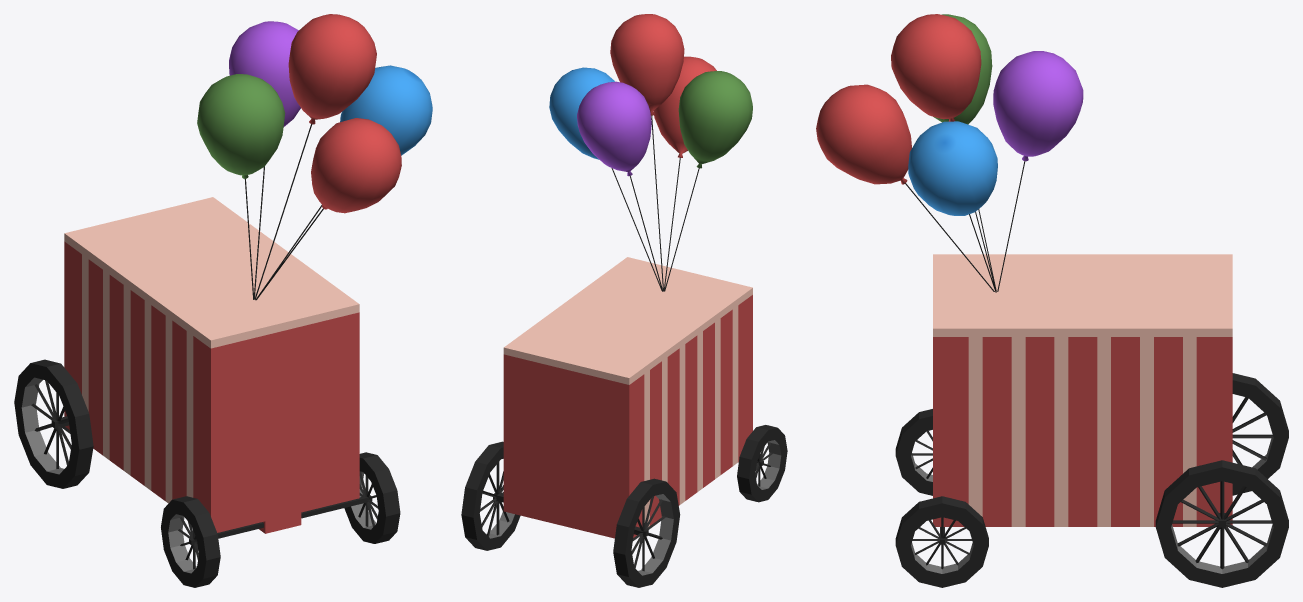
Rendered from Balloon Shop.fbx.
The picture shows the model from 3 angles, left to right: view 1: azimuth 30°, elevation 25°; view 2: azimuth 150°, elevation 25°; view 3: azimuth 270°, elevation 25°; orthographic projection. The views are drawn at different scales.
Visible parts, largest first — view 1: Balloon Shop; view 2: Balloon Shop; view 3: Balloon Shop.
Part boxes in pixels (box(x1,y1,x2,y2)): Balloon Shop: box(14, 14, 432, 587); Balloon Shop: box(461, 14, 787, 587); Balloon Shop: box(816, 14, 1288, 587).
Size of the model in its own units: 139 by 285 by 224.
